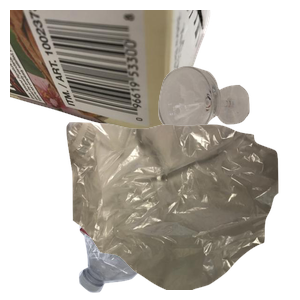cardboard: (10, 10, 213, 146)
glass: (156, 64, 300, 194)
plastic: (76, 131, 280, 300)
trash: (64, 120, 300, 300)
